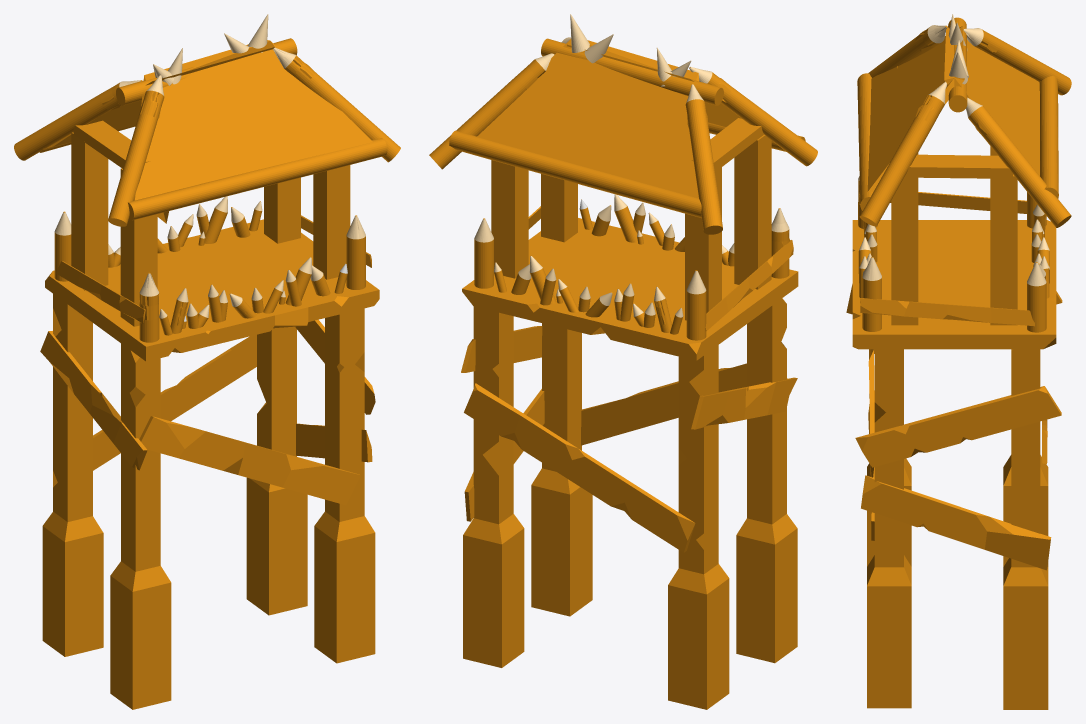
The model's file is Spear Tower Upgrade .glb.
3 renders of one model, left to right at view 1: azimuth 30°, elevation 25°; view 2: azimuth 150°, elevation 25°; view 3: azimuth 270°, elevation 25°, orthographic.
Visible parts, largest first — view 1: Plane.001, Plane.009, Plane, Plane.008, Plane.002, Circle.048, Circle.037, Plane.005, Plane.006, Circle.045, Plane.007, Plane.012 (+7 smaller); view 2: Plane.001, Plane.009, Plane, Plane.008, Plane.005, Circle.045, Circle.047, Plane.002, Plane.006, Circle.037, Circle.044, Plane.007 (+6 smaller); view 3: Plane.001, Plane, Plane.009, Plane.008, Plane.003, Plane.004, Circle.045, Circle.037, Plane.007, Plane.012, Circle.047, Circle.048 (+6 smaller).
Part boxes in pixels (x1,y1,x2,y2): Plane.001: (42,294,375,709); Plane.009: (52,40,372,200); Plane: (45,219,379,361); Plane.008: (71,132,350,326); Plane.002: (139,416,360,505); Circle.048: (128,138,387,220); Circle.037: (108,48,400,226); Plane.005: (93,334,256,470); Plane.006: (40,331,147,470); Circle.045: (14,80,141,160); Plane.007: (56,215,371,323); Plane.012: (73,120,150,168); Plane.001: (463,298,797,709); Plane.009: (477,39,741,197); Plane: (462,218,798,360); Plane.008: (491,134,771,320); Plane.005: (464,383,695,552); Circle.045: (429,59,722,234); Circle.047: (449,130,701,218); Plane.002: (581,363,787,445); Plane.006: (691,377,797,429); Circle.037: (561,42,817,166); Circle.044: (541,38,723,105); Plane.007: (528,206,793,331); Plane.001: (867,349,1048,709); Plane: (846,220,1056,349); Plane.009: (867,26,1039,191); Plane.008: (891,146,1017,325); Plane.003: (855,386,1061,467); Plane.004: (861,475,1051,570); Circle.045: (963,29,1071,227); Circle.037: (859,25,947,226); Plane.007: (860,192,1034,326); Plane.012: (897,66,1012,178); Circle.047: (1039,76,1058,198); Circle.048: (857,73,873,210).
Size of the model in its own units: 7.18 by 14.71 by 4.78.
